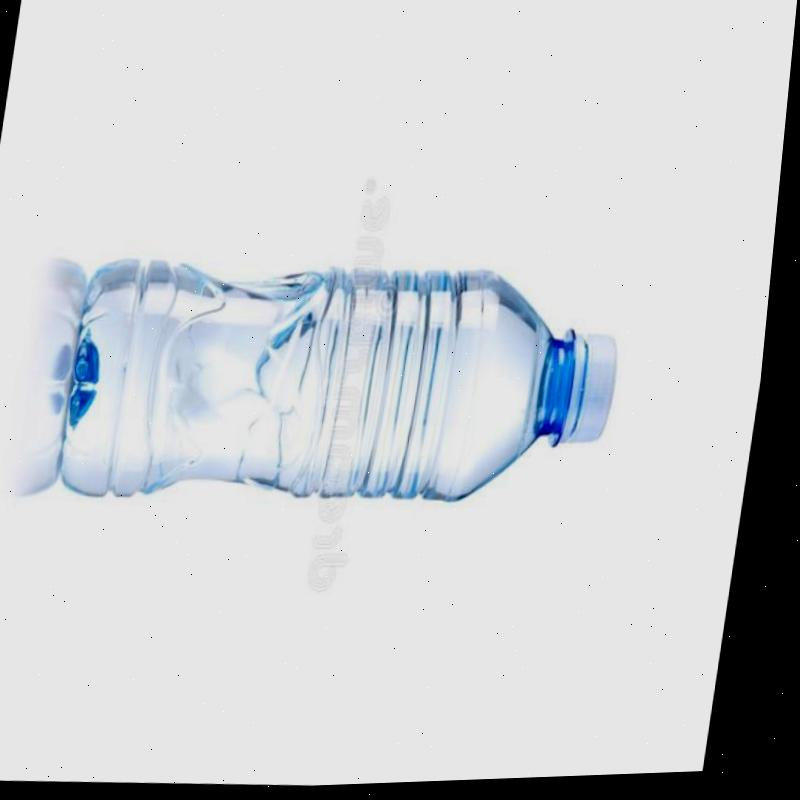botella: (60, 239, 641, 523)
